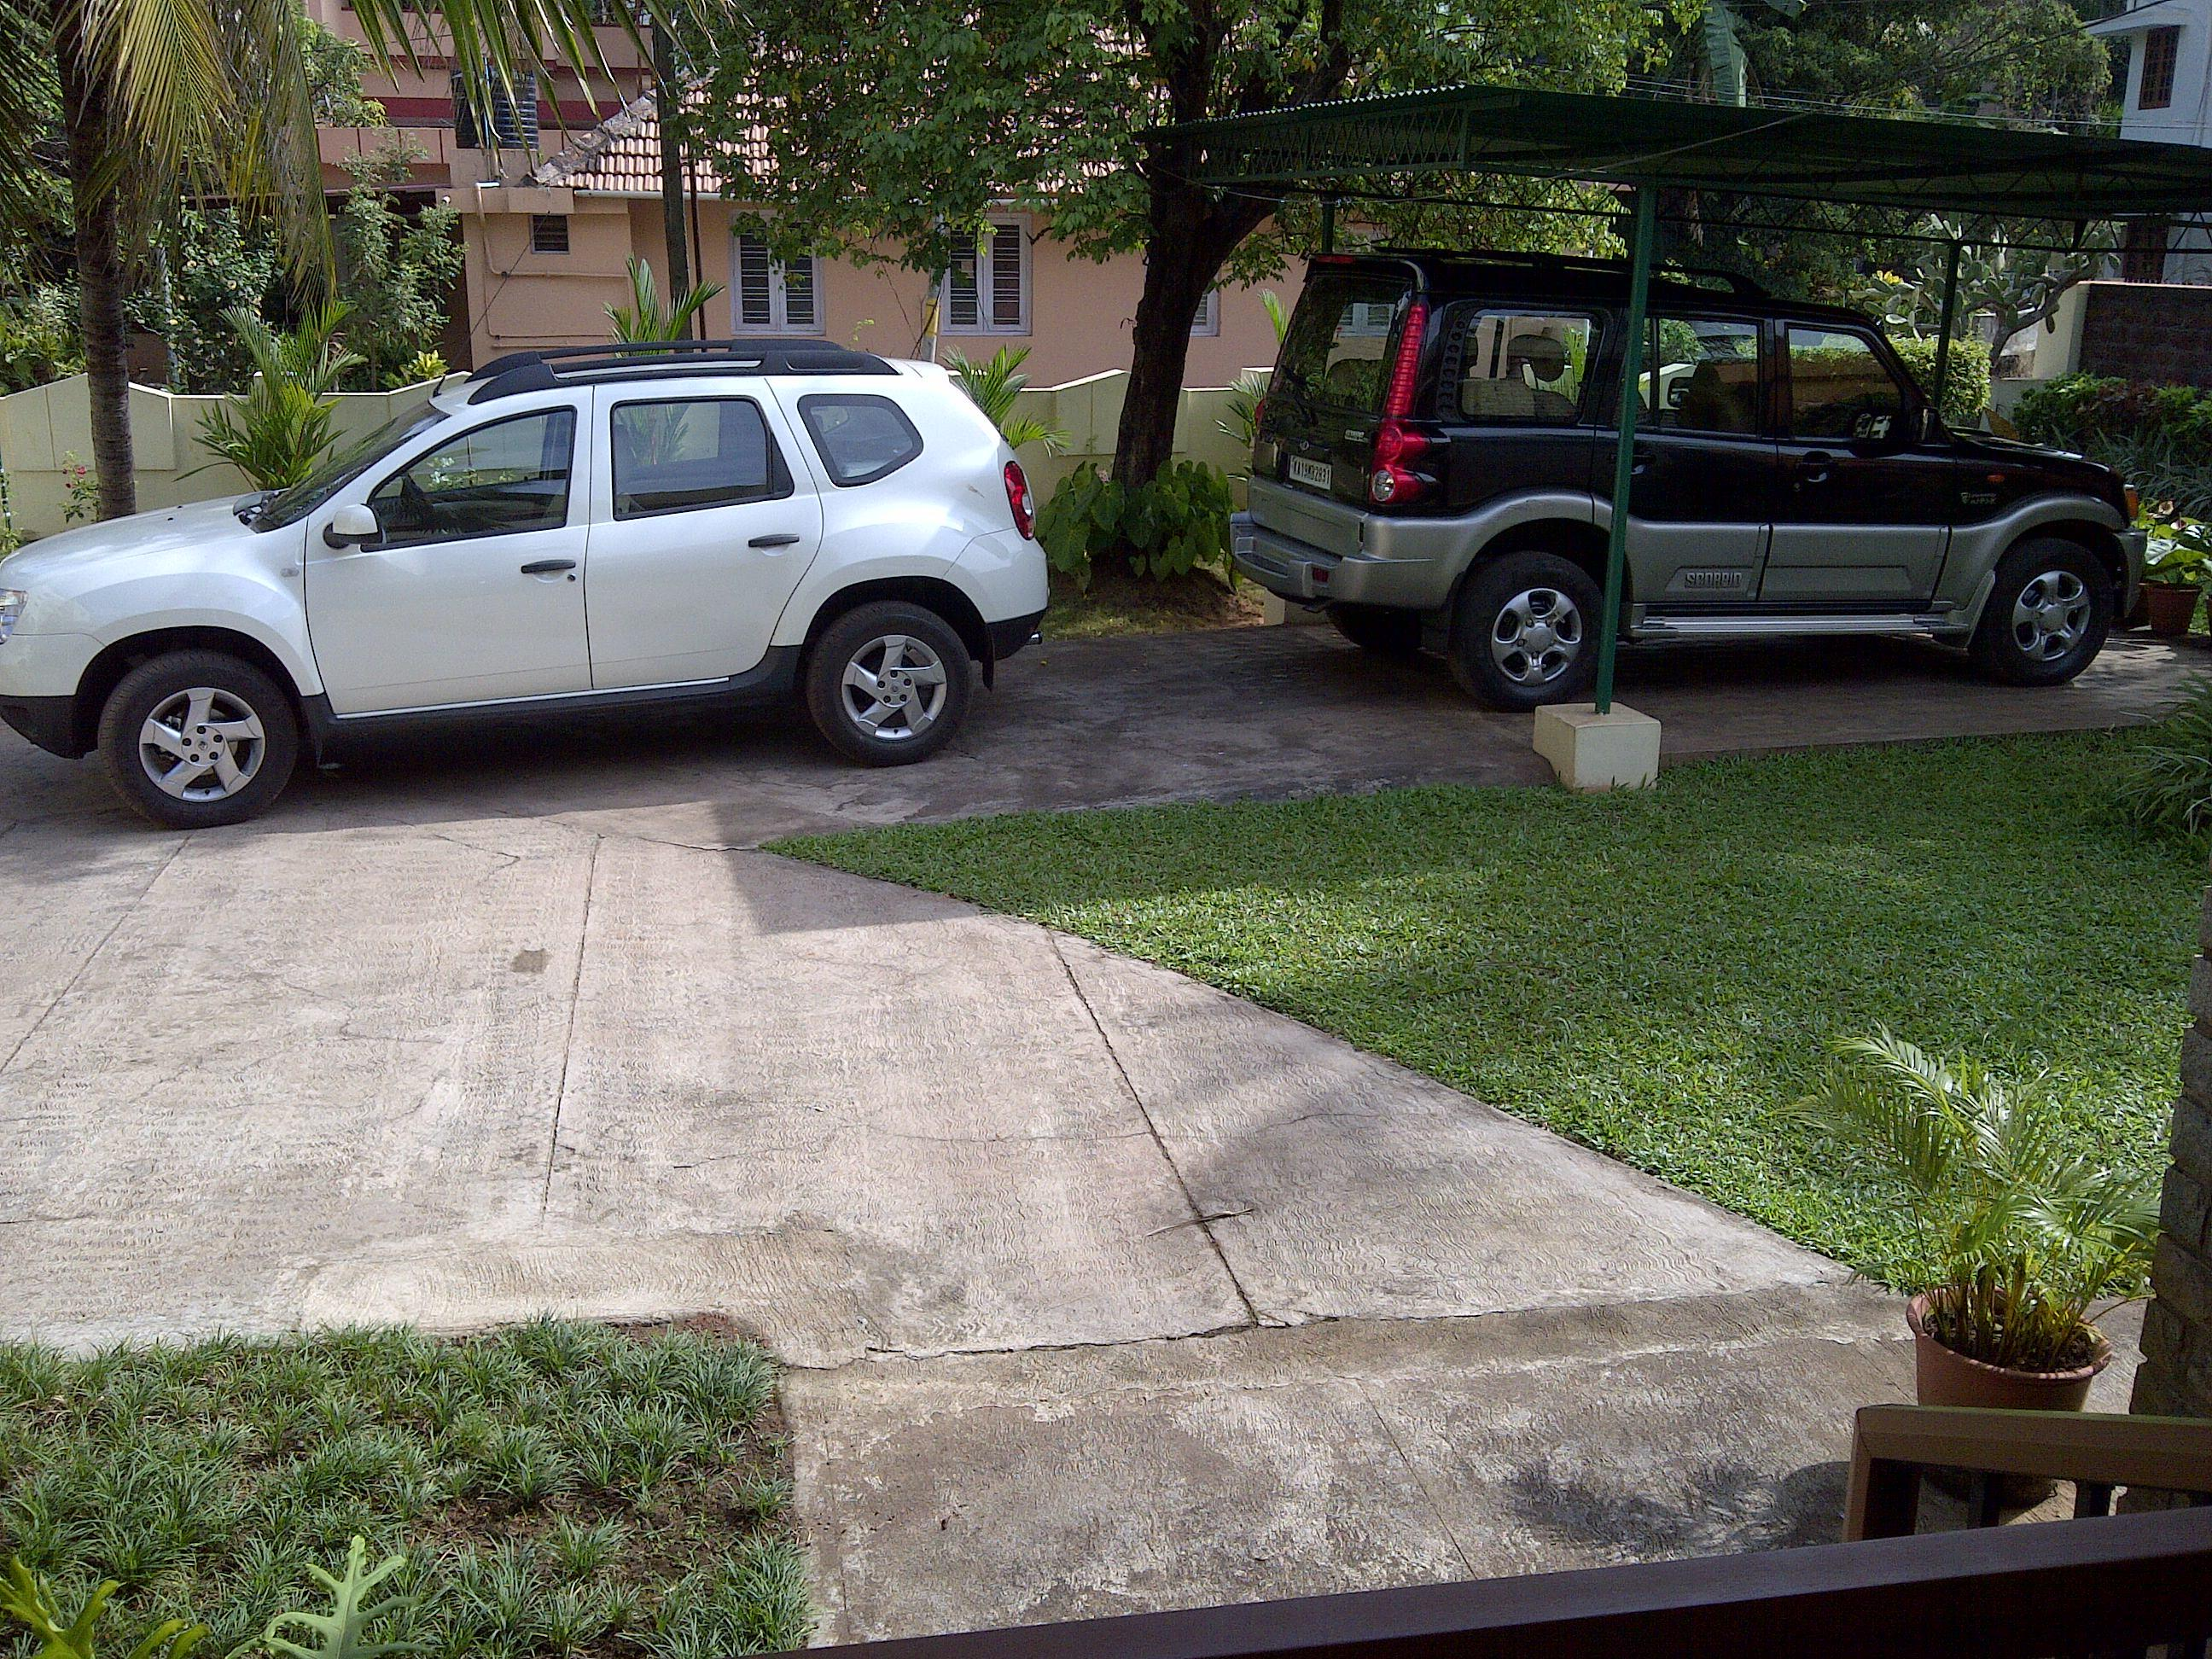car: (0, 230, 1103, 920), (1181, 145, 2168, 763)
